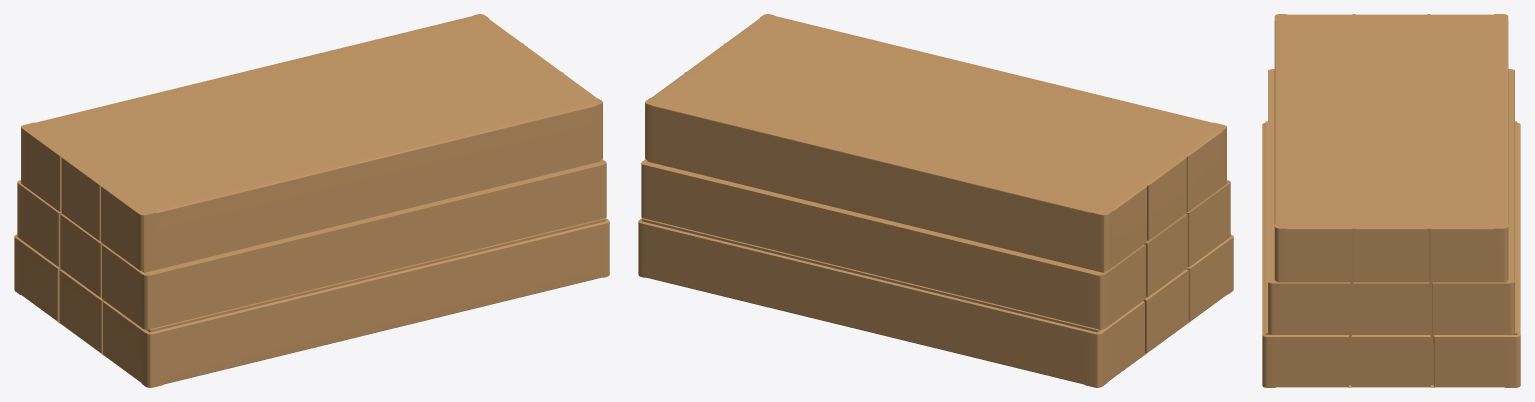
Rendered from RW_COPPER.fbx.
3 renders of one model, left to right at view 1: azimuth 30°, elevation 25°; view 2: azimuth 150°, elevation 25°; view 3: azimuth 270°, elevation 25°, orthographic. The views are drawn at different scales.
Parts seen in each view (by area): view 1: Copper; view 2: Copper; view 3: Copper.
Boxes of the visible parts, x1,y1,x2,y2 form: Copper: [14, 14, 609, 387]; Copper: [638, 14, 1233, 387]; Copper: [1262, 14, 1520, 387].
Bounding box in the file's own units: 0.8738 × 0.4446 × 0.3027.
